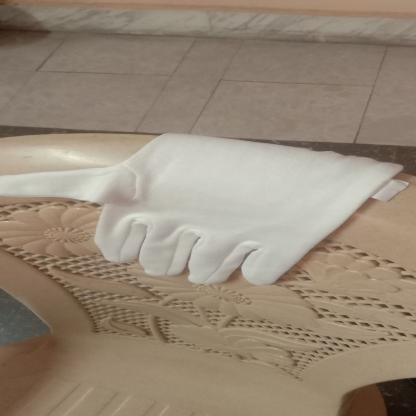gloved_hand: (0, 118, 409, 283)
